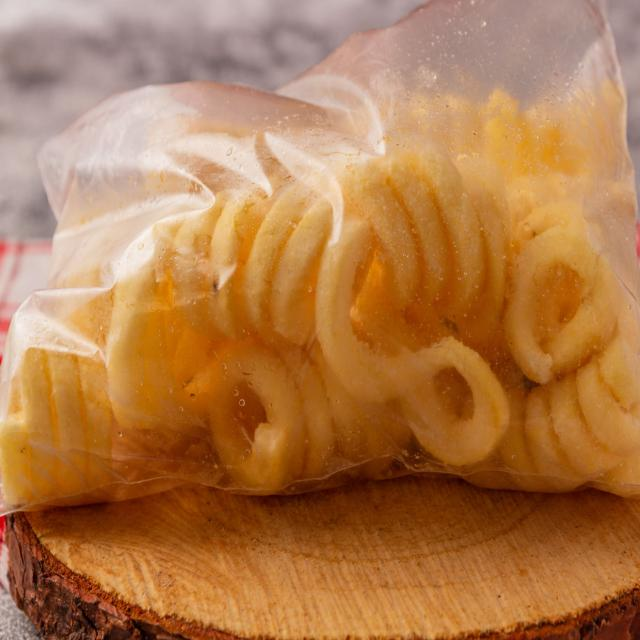papa: (312, 220, 550, 477)
